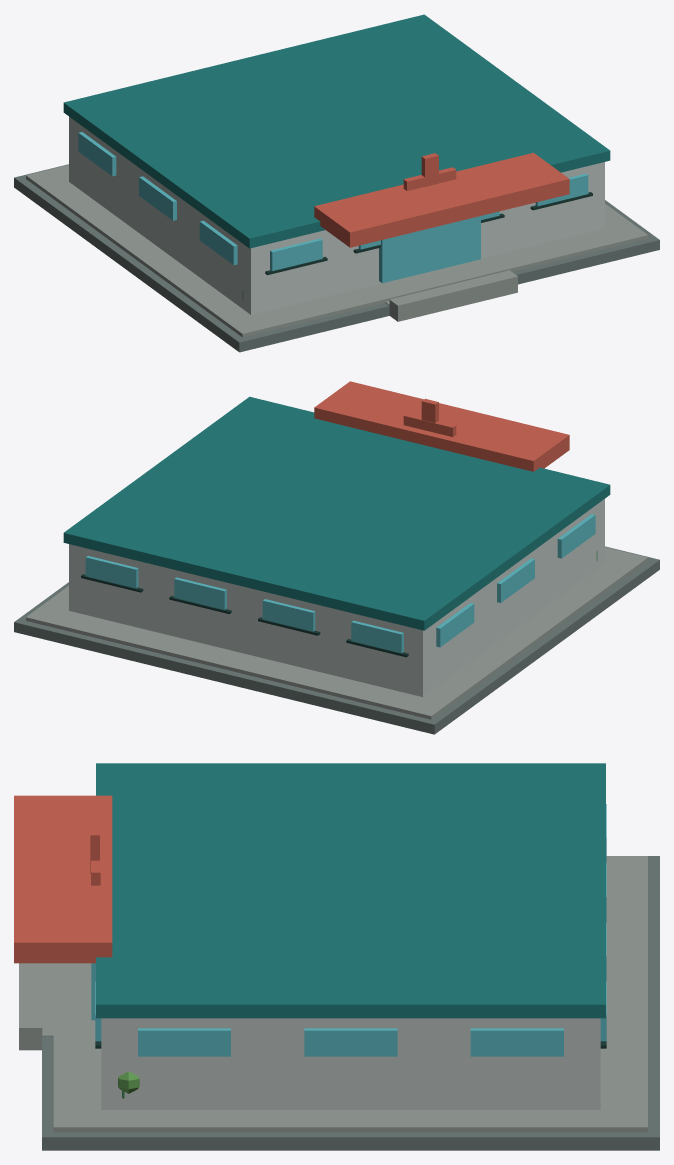
The model's file is clinic_lv1.glb.
The picture shows the model from 3 angles, top to bottom: view 1: azimuth 30°, elevation 25°; view 2: azimuth 150°, elevation 25°; view 3: azimuth 270°, elevation 25°; orthographic projection. The views are drawn at different scales.
Visible parts, largest first — view 1: rough, glossy; view 2: rough, glossy; view 3: rough, glossy.
Part boxes in pixels (x1,y1,x2,y2): rough: [14, 14, 659, 352]; glossy: [78, 132, 588, 283]; rough: [14, 381, 659, 734]; glossy: [85, 514, 595, 653]; rough: [14, 763, 659, 1150]; glossy: [91, 804, 606, 1056].
Bounding box in the file's own units: 9.8 × 2.91 × 9.51.
